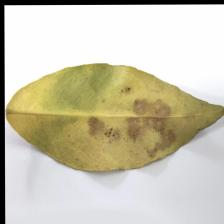black spot: (92, 85, 180, 155)
